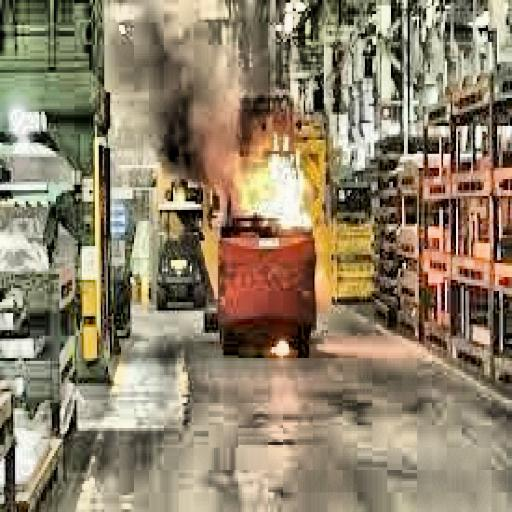fire: (210, 143, 315, 235)
